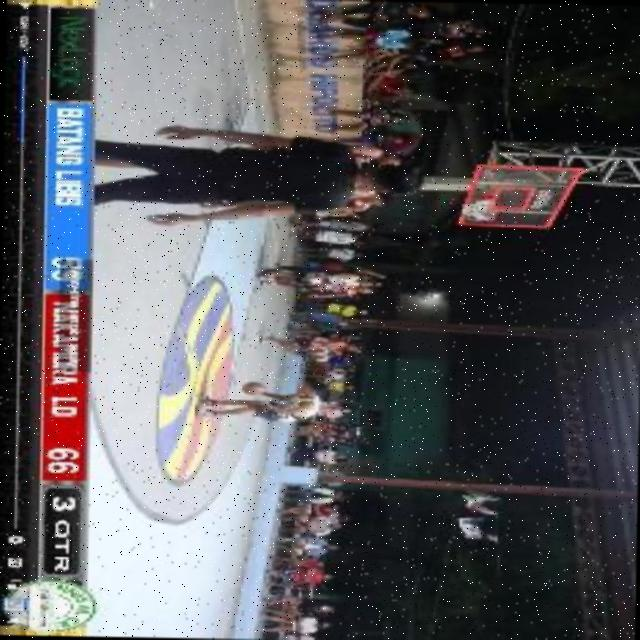ball: (239, 380, 264, 396)
